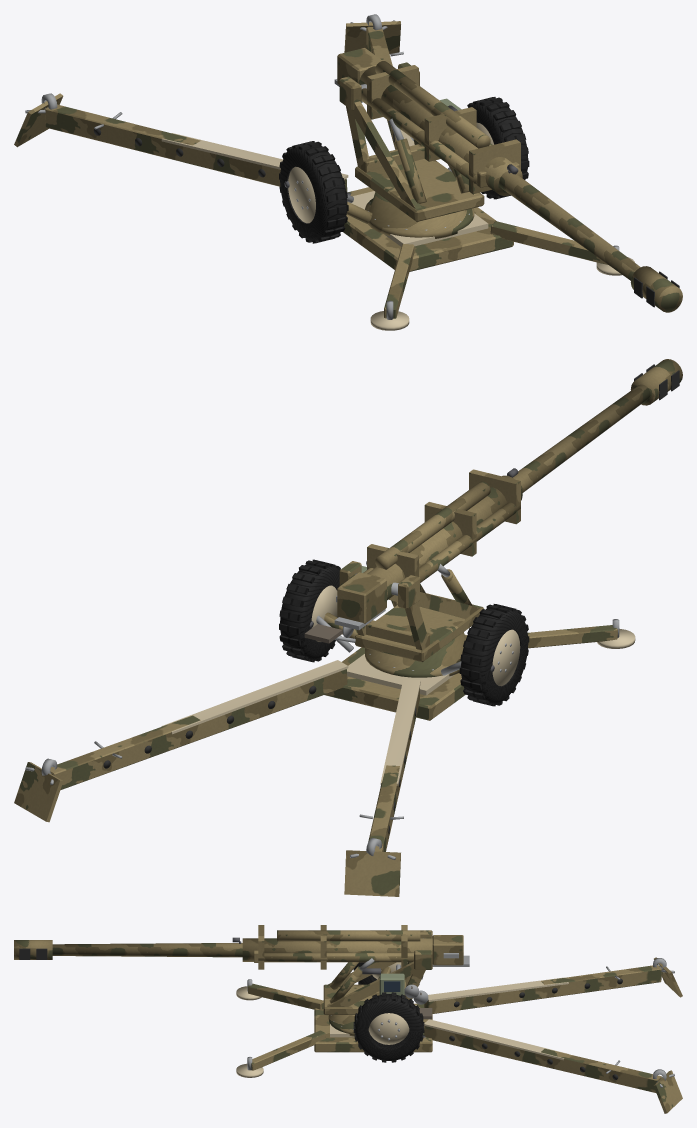
3 renders of one model, top to bottom at view 1: azimuth 30°, elevation 25°; view 2: azimuth 150°, elevation 25°; view 3: azimuth 270°, elevation 25°, orthographic. The views are drawn at different scales.
Parts seen in each view (by area): view 1: M777_base_geo, launcher_pitch_geo, launcher_yaw_geo, barrel_geo; view 2: M777_base_geo, launcher_pitch_geo, launcher_yaw_geo, barrel_geo; view 3: M777_base_geo, launcher_pitch_geo, barrel_geo, launcher_yaw_geo.
Boxes of the visible parts, x1,y1,x2,y2 form: M777_base_geo: [14, 14, 634, 330]; launcher_pitch_geo: [334, 61, 522, 195]; launcher_yaw_geo: [339, 62, 484, 221]; barrel_geo: [337, 48, 682, 312]; M777_base_geo: [14, 559, 635, 896]; launcher_pitch_geo: [334, 469, 522, 630]; launcher_yaw_geo: [304, 561, 483, 661]; barrel_geo: [336, 359, 682, 623]; M777_base_geo: [236, 957, 682, 1113]; launcher_pitch_geo: [242, 925, 469, 969]; barrel_geo: [14, 935, 463, 965]; launcher_yaw_geo: [323, 930, 432, 1019].
Size of the model in its own units: 5.02 by 2.08 by 10.74.
9 materials, 2 textured.
